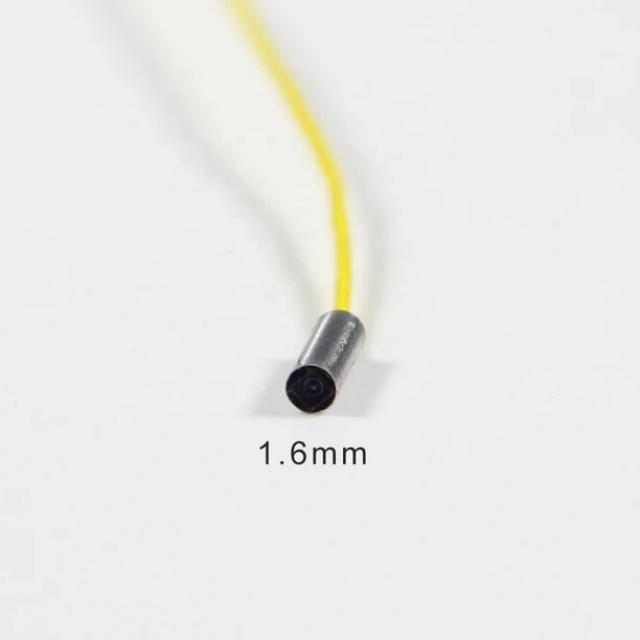hidden camera: (298, 371, 327, 407)
